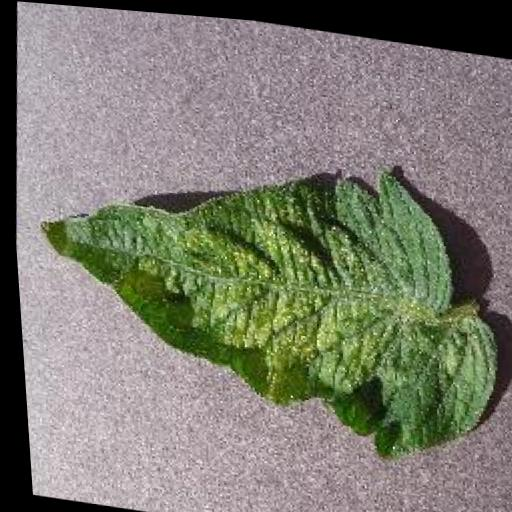Spider Mites: (18, 116, 512, 473)
